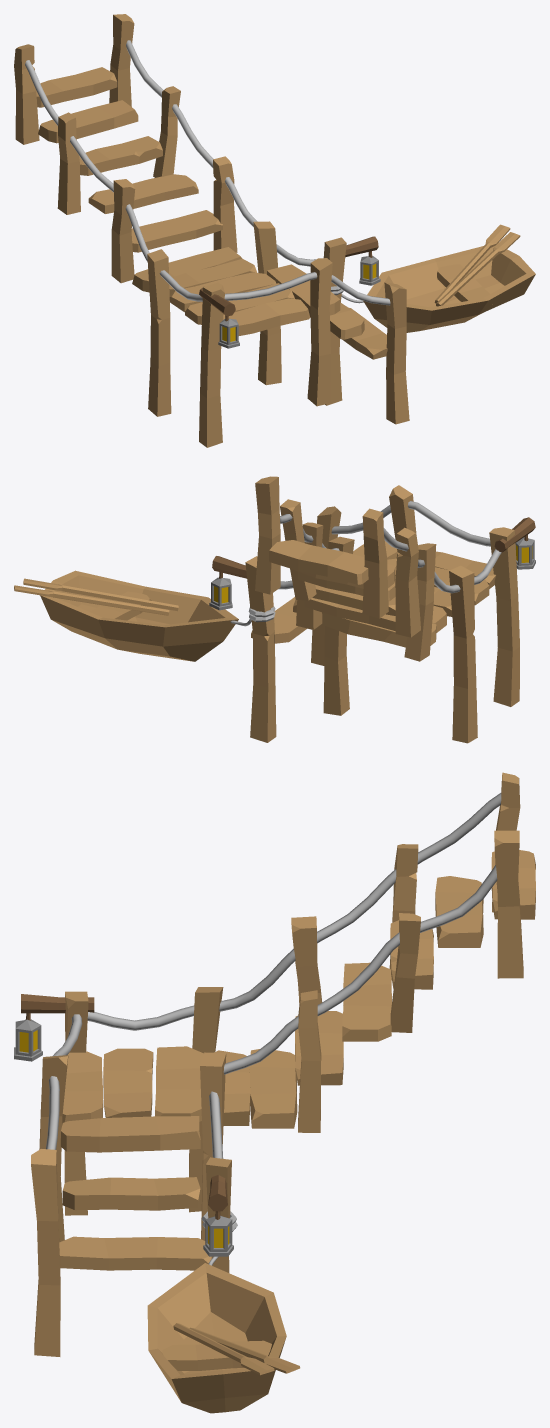
File: Stairs_w_Boat.fbx
3 views of the same model, one above another, from view 1: azimuth 30°, elevation 25°; view 2: azimuth 150°, elevation 25°; view 3: azimuth 270°, elevation 25° (orthographic). The views are drawn at different scales.
Parts seen in each view (by area): view 1: Stairs_w_Boat; view 2: Stairs_w_Boat; view 3: Stairs_w_Boat.
Part boxes in pixels (x1=…): Stairs_w_Boat: x1=14, y1=14, x2=535, y2=447; Stairs_w_Boat: x1=14, y1=476, x2=535, y2=743; Stairs_w_Boat: x1=14, y1=772, x2=535, y2=1413.
Bounding box in the file's own units: 649 × 503 × 502.
